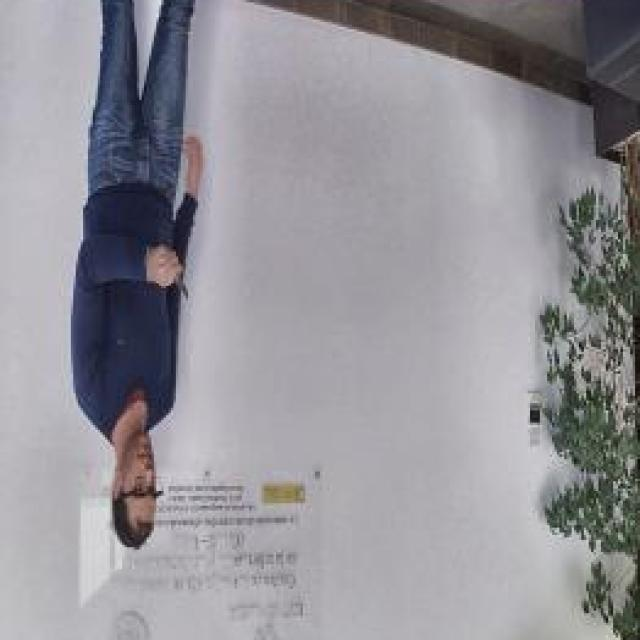knife: (163, 258, 190, 308)
